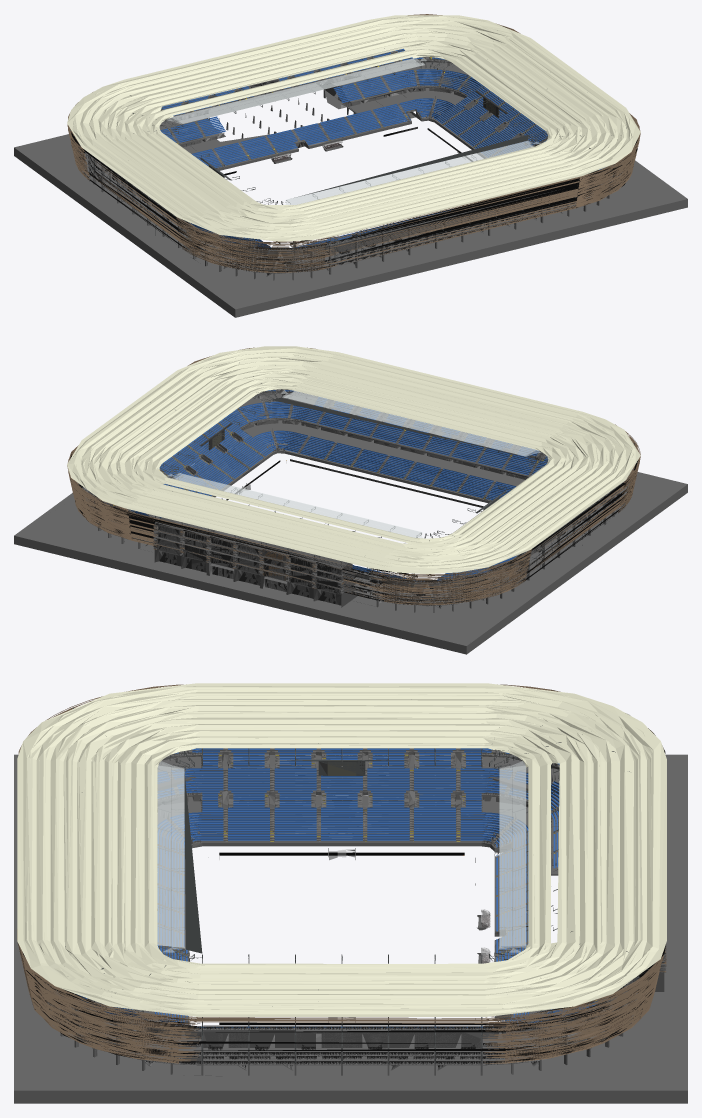
File: stadium.glb
The picture shows the model from 3 angles, top to bottom: view 1: azimuth 30°, elevation 25°; view 2: azimuth 150°, elevation 25°; view 3: azimuth 270°, elevation 25°; orthographic projection. The views are drawn at different scales.
Parts seen in each view (by area): view 1: Color_D04, Beton_16_ext, Beton_16, seats, Color_D04_ext, Wood_47_1, Wood_47_1_ext, Color_A06, Stal_03__wytarta, Beton_16_3, Color_M07, Srebro_03__wytarte_ext (+7 smaller); view 2: Color_D04, Beton_16_ext, Beton_16, seats, Color_D04_ext, Srebro_03__wytarte_ext, Wood_47_1_ext, Wood_47_1, Color_A06, Color_M07_ext, Beton_16_3, Srebro_03__wytarte (+8 smaller); view 3: Color_D04, Beton_16_ext, Beton_16, seats, Color_D04_ext, Wood_47_1, Color_A06, Beton_16_3_ext, Wood_47_1_ext, Beton_16_3, Srebro_03__wytarte_ext, Stal_03__wytarta (+7 smaller).
Part boxes in pixels (x1,y1,x2,y2): Color_D04: (67, 15, 640, 241); Beton_16_ext: (14, 50, 687, 317); Beton_16: (17, 50, 685, 280); seats: (160, 48, 604, 248); Color_D04_ext: (68, 15, 635, 239); Wood_47_1: (67, 14, 640, 272); Wood_47_1_ext: (68, 14, 639, 272); Color_A06: (167, 57, 540, 204); Stal_03__wytarta: (71, 26, 637, 260); Beton_16_3: (88, 51, 612, 279); Color_M07: (90, 62, 613, 275); Srebro_03__wytarte_ext: (112, 62, 549, 255); Color_D04: (67, 346, 640, 574); Beton_16_ext: (14, 393, 687, 654); Beton_16: (16, 389, 619, 644); seats: (107, 390, 547, 581); Color_D04_ext: (72, 348, 635, 570); Srebro_03__wytarte_ext: (153, 401, 595, 607); Wood_47_1_ext: (72, 359, 640, 605); Wood_47_1: (67, 347, 640, 604); Color_A06: (167, 390, 541, 538); Color_M07_ext: (93, 394, 619, 604); Beton_16_3: (90, 394, 617, 612); Srebro_03__wytarte: (155, 399, 587, 591); Color_D04: (17, 683, 666, 1016); Beton_16_ext: (14, 750, 687, 1103); Beton_16: (14, 748, 683, 1090); seats: (76, 748, 597, 1027); Color_D04_ext: (23, 686, 660, 1015); Wood_47_1: (17, 684, 666, 1062); Color_A06: (157, 761, 526, 952); Beton_16_3_ext: (110, 748, 593, 1056); Wood_47_1_ext: (18, 684, 666, 1063); Beton_16_3: (53, 748, 632, 1075); Srebro_03__wytarte_ext: (89, 752, 666, 1048); Stal_03__wytarta: (23, 751, 665, 1061).
Size of the model in its own units: 222 by 29.15 by 188.
